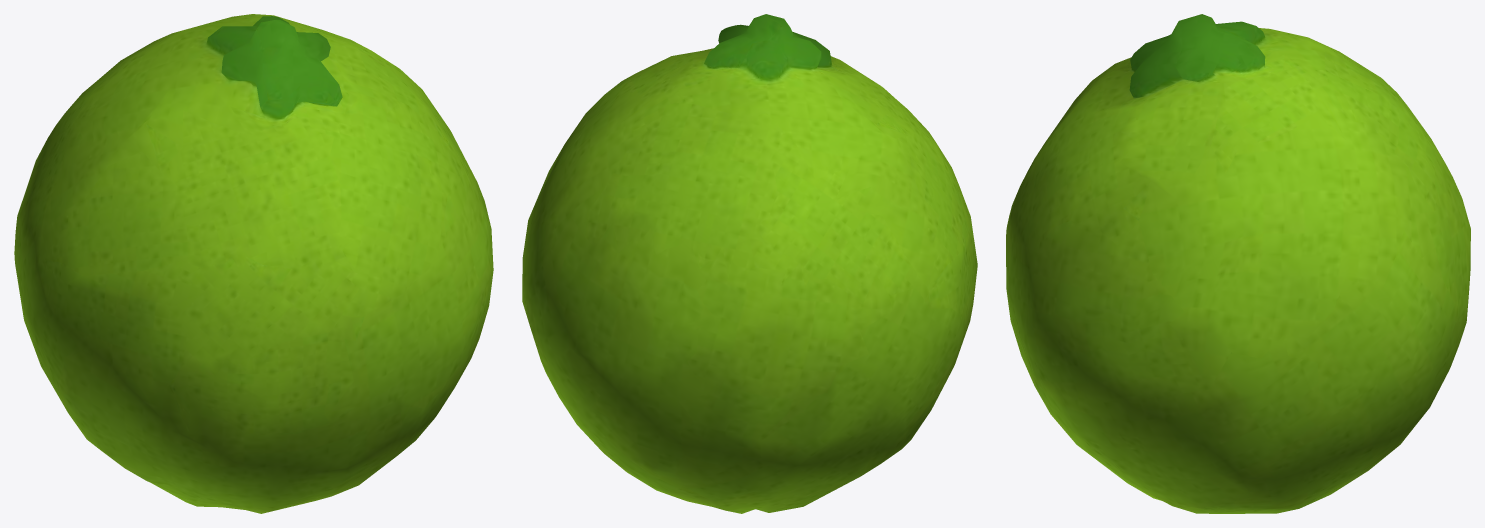
File: lime.glb
The picture shows the model from 3 angles, left to right: view 1: azimuth 30°, elevation 25°; view 2: azimuth 150°, elevation 25°; view 3: azimuth 270°, elevation 25°; orthographic projection. The views are drawn at different scales.
Parts seen in each view (by area): view 1: tripo_node_15cdd014-e201-48e4-83bf-ecb602d1c825; view 2: tripo_node_15cdd014-e201-48e4-83bf-ecb602d1c825; view 3: tripo_node_15cdd014-e201-48e4-83bf-ecb602d1c825.
Boxes of the visible parts, x1,y1,x2,y2 form: tripo_node_15cdd014-e201-48e4-83bf-ecb602d1c825: [14, 14, 493, 513]; tripo_node_15cdd014-e201-48e4-83bf-ecb602d1c825: [522, 14, 977, 513]; tripo_node_15cdd014-e201-48e4-83bf-ecb602d1c825: [1006, 14, 1470, 513].
Size of the model in its own units: 0.882 by 0.9823 by 0.8612.
1 material, 1 textured.
